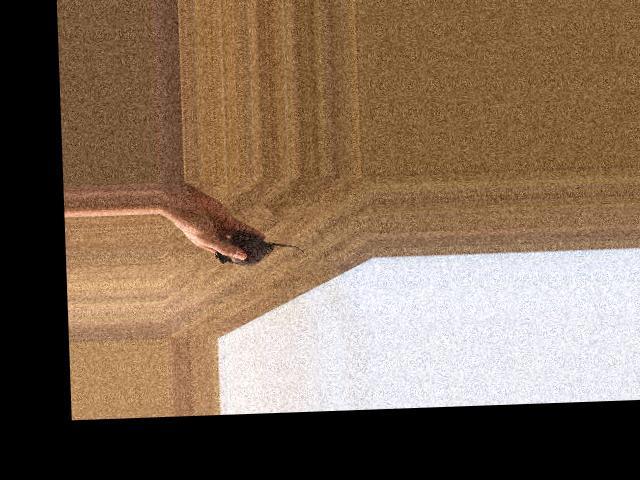beet: (214, 231, 305, 266)
